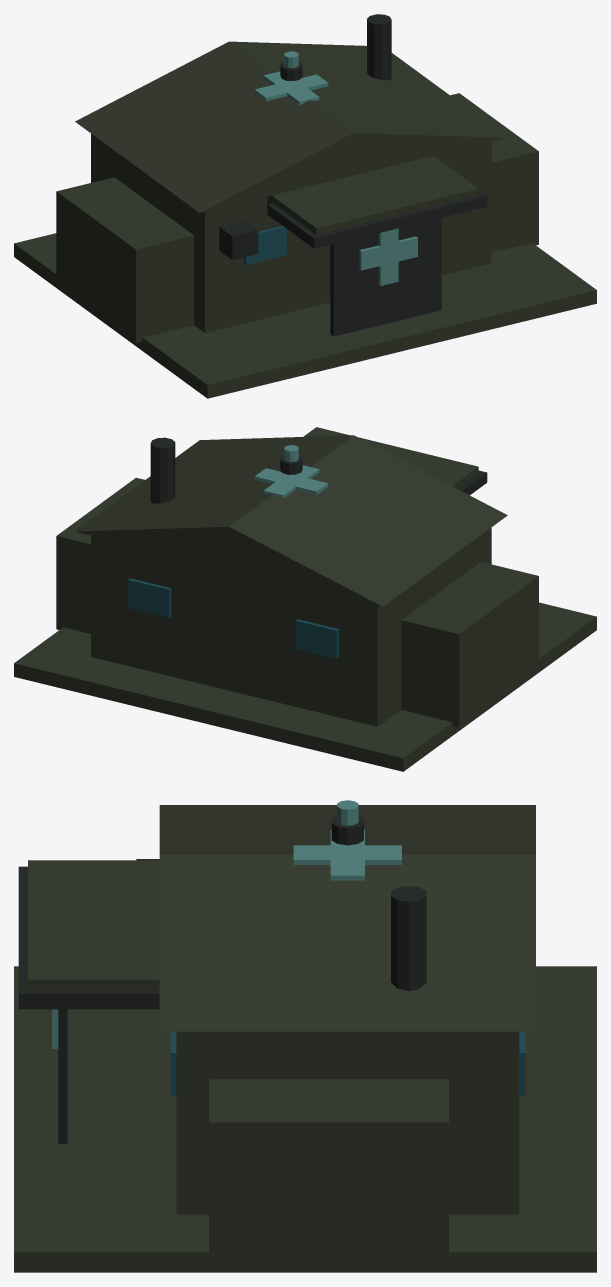
The model's file is Bastion_MASH_Articulated.glb.
The picture shows the model from 3 angles, top to bottom: view 1: azimuth 30°, elevation 25°; view 2: azimuth 150°, elevation 25°; view 3: azimuth 270°, elevation 25°; orthographic projection. The views are drawn at different scales.
Parts seen in each view (by area): view 1: Base, BeaconSpin; view 2: Base, BeaconSpin; view 3: Base, BeaconSpin.
Boxes of the visible parts, bbox=[...] form: Base: bbox=[14, 14, 596, 398]; BeaconSpin: bbox=[280, 51, 302, 80]; Base: bbox=[14, 427, 596, 771]; BeaconSpin: bbox=[280, 445, 302, 474]; Base: bbox=[14, 805, 596, 1272]; BeaconSpin: bbox=[331, 800, 363, 845].
Bounding box in the file's own units: 7.45 × 3.81 × 6.2.
1 material, 1 textured.
